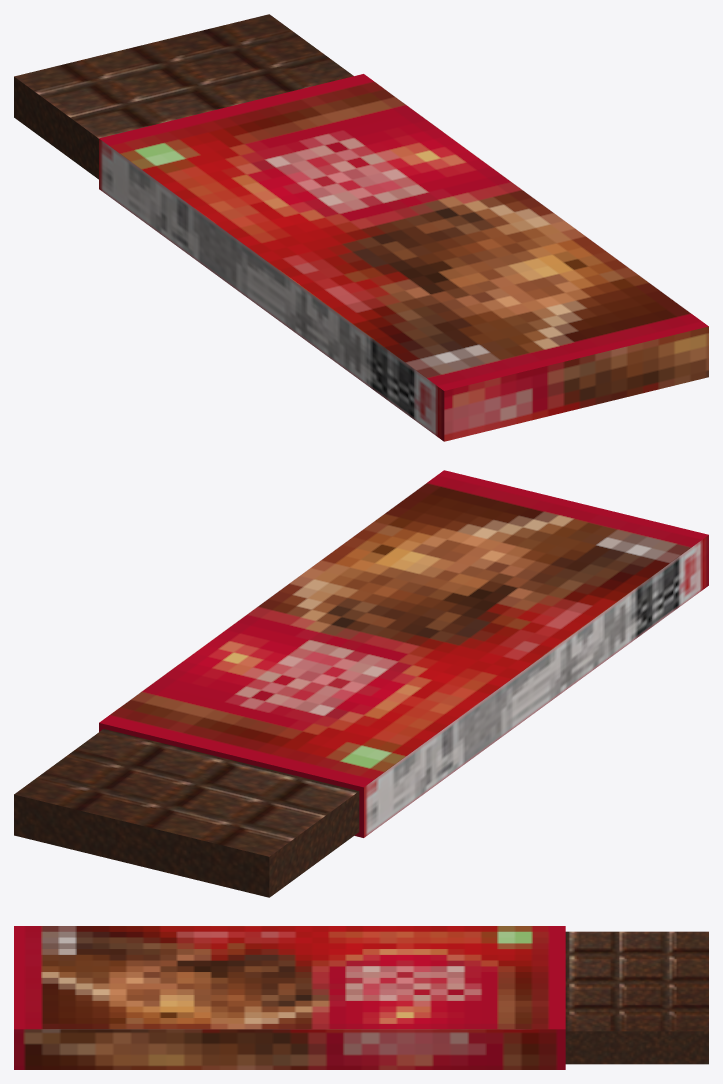
The model's file is chocolate_bar_open.glb.
The picture shows the model from 3 angles, top to bottom: view 1: azimuth 30°, elevation 25°; view 2: azimuth 150°, elevation 25°; view 3: azimuth 270°, elevation 25°; orthographic projection. The views are drawn at different scales.
Parts seen in each view (by area): view 1: chocolate bar open; view 2: chocolate bar open; view 3: chocolate bar open.
Part boxes in pixels (x1,y1,x2,y2): chocolate bar open: (14, 14, 708, 441); chocolate bar open: (14, 470, 708, 897); chocolate bar open: (14, 926, 708, 1069).
Size of the model in its own units: 0.1147 by 0.021 by 0.3262.
2 materials, 2 textured.
